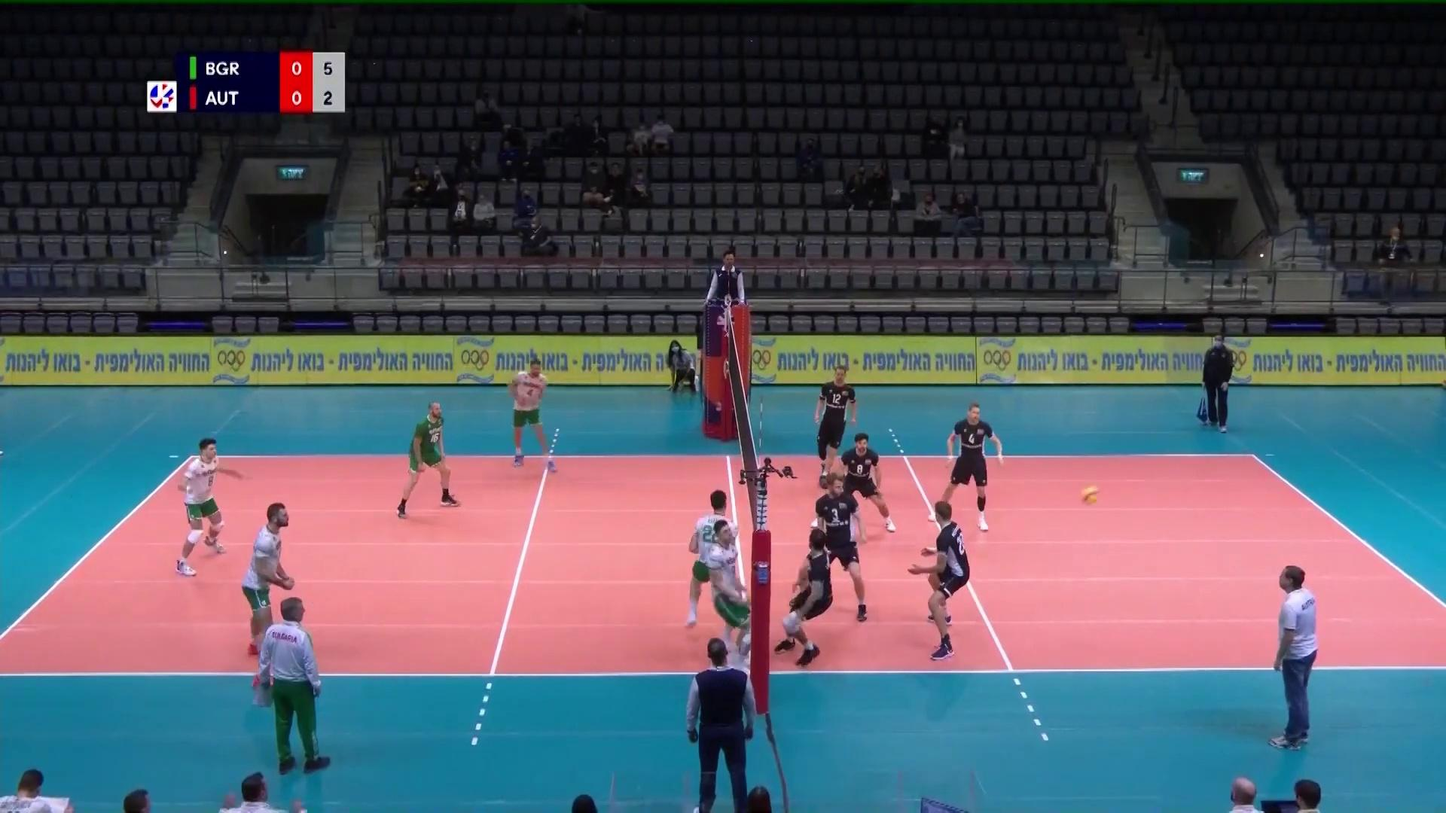ball: (1080, 486, 1099, 507)
